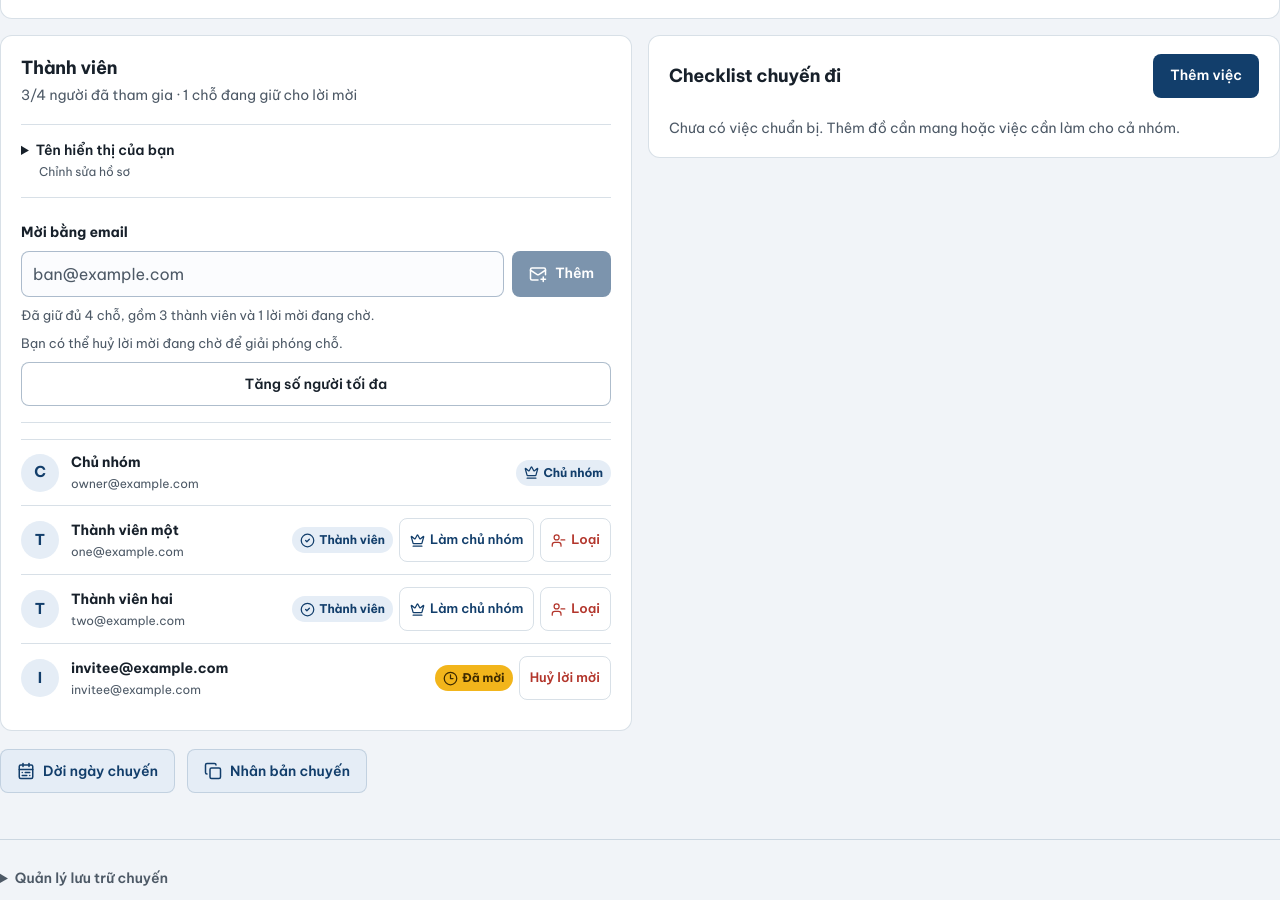
it: GroupPage invitations › confirms revoke for the selected invitation and keeps an actionable retry after failure
(page scrolled)
Click the button with aria-label "Huỷ lời mời invitee@example.com".
click(565, 678)  # box [519,656,611,700]
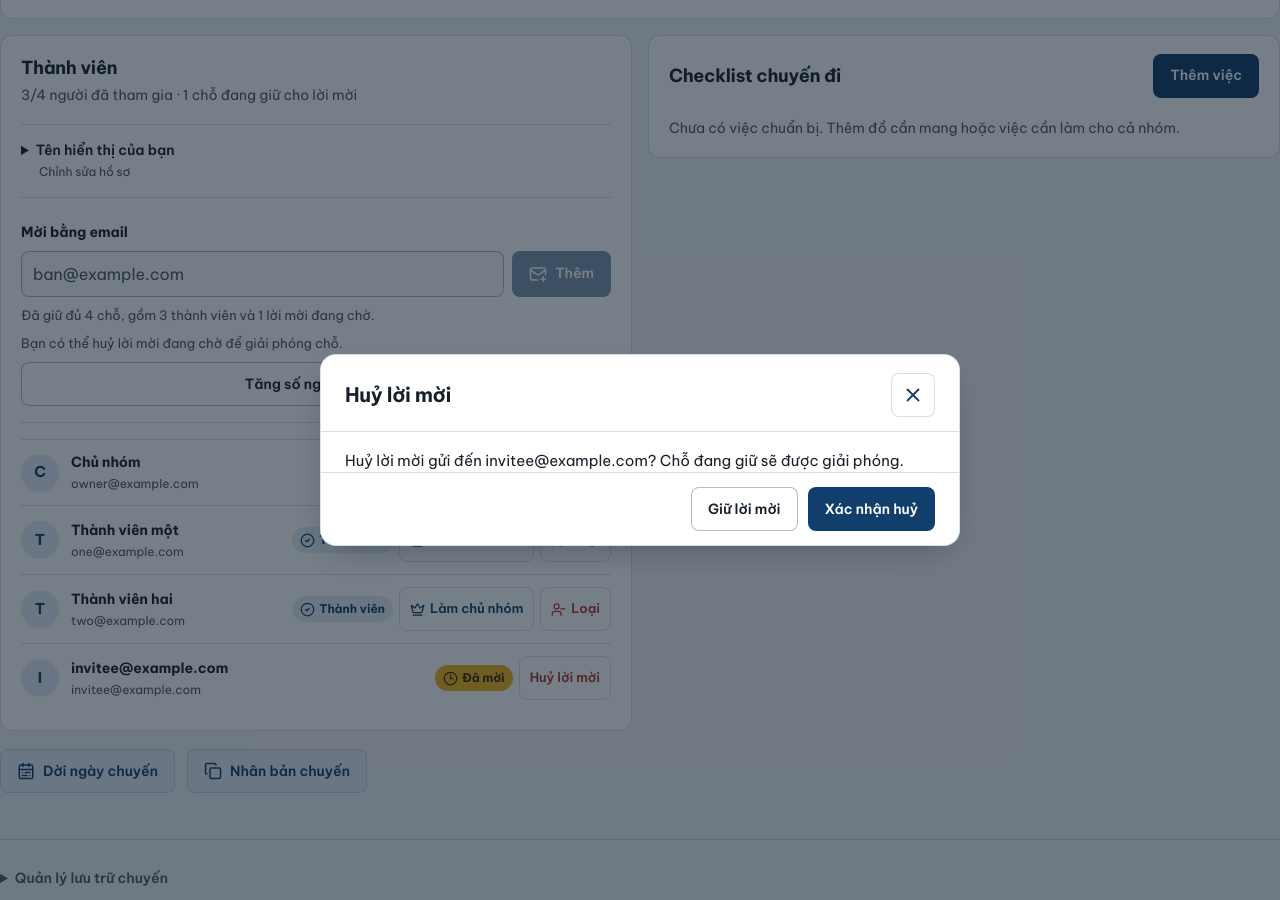
Result: the dialog shows "invitee@example.com" at [485,451,648,470]
Click the button "Xác nhận huỷ".
click(871, 509)  # box [808,487,935,531]
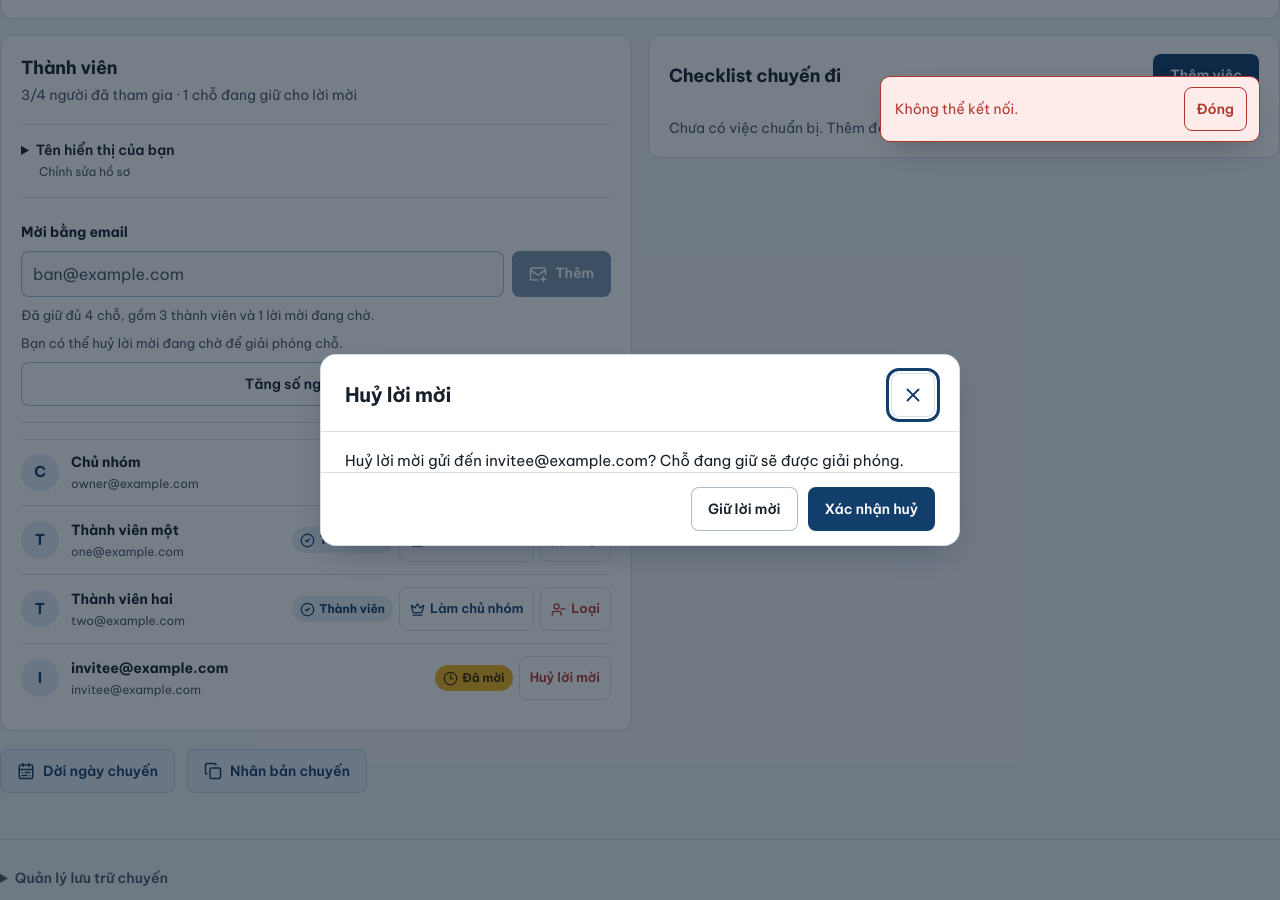
Result: the dialog is shown at [320,354,960,546]
Result: the button "Xác nhận huỷ" is enabled
Result: the text "Không thể kết nối." is shown at [895,100,1018,118]
Click the button "Xác nhận huỷ".
click(871, 509)  # box [808,487,935,531]
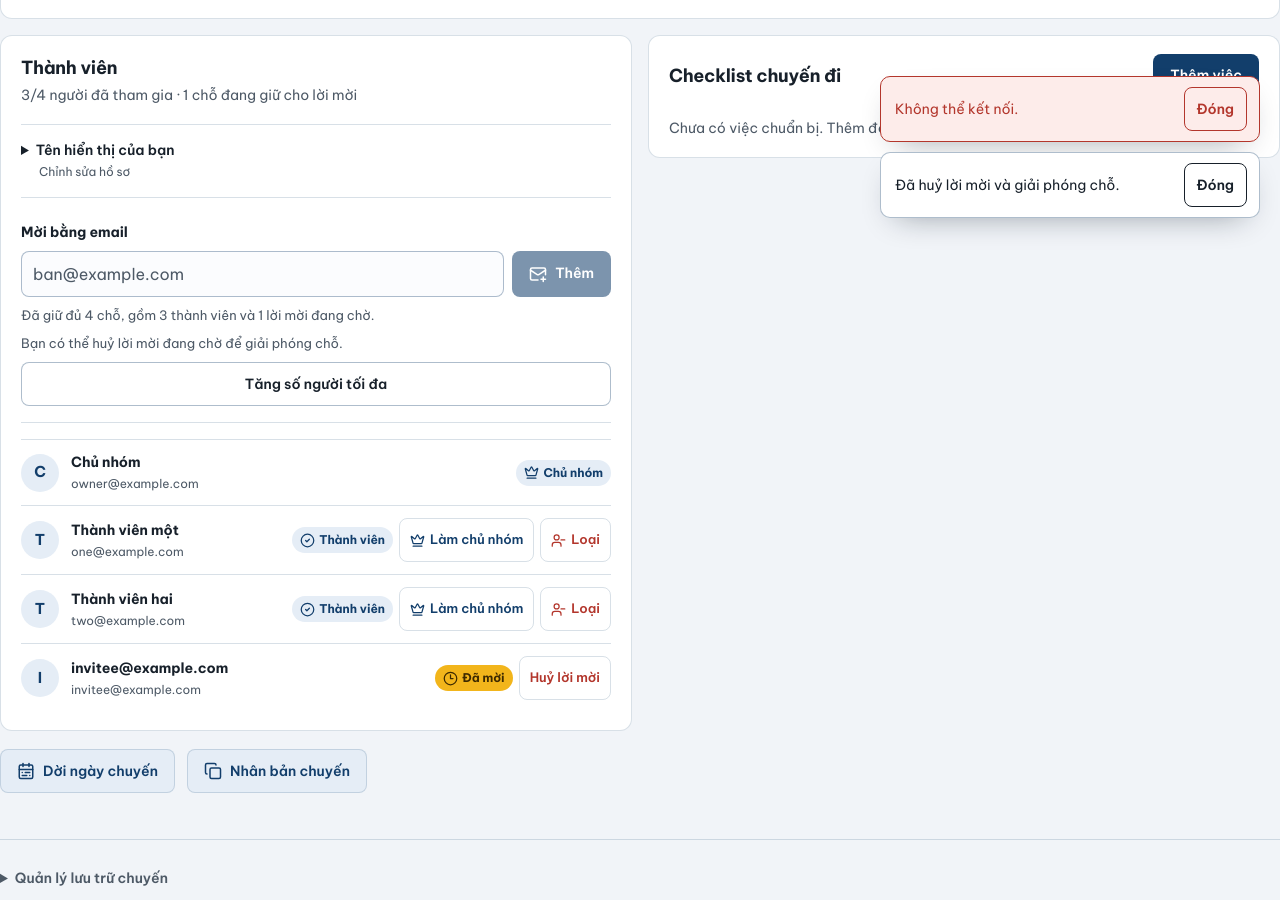
Result: the dialog is gone
Result: the text "Đã huỷ lời mời và giải phóng chỗ." is shown at [895,176,1120,194]
